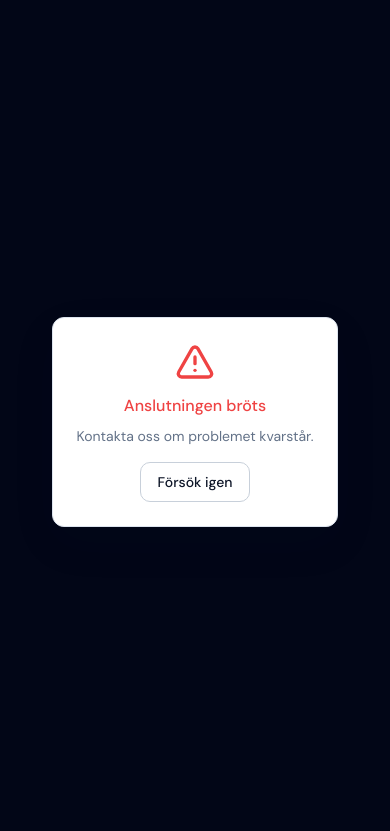
Test: public customer page recovery › ends the portal loader on a network error and supports retry
Expected: the text "Anslutningen bröts" is shown, [124, 395, 266, 416]
Click the button "Försök igen": (195, 482) [140, 462, 250, 502]
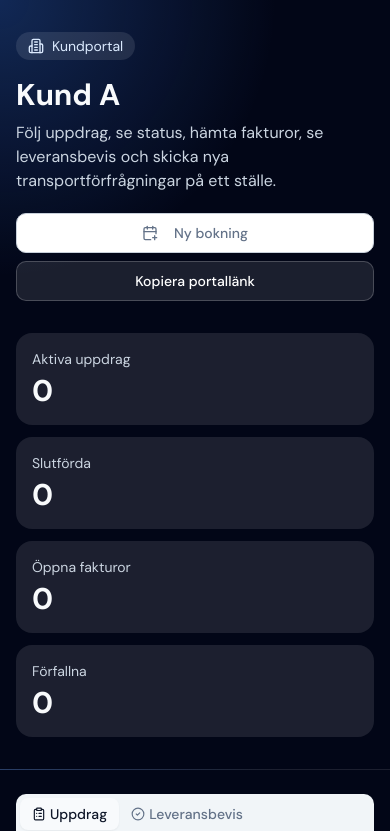
Expected: the heading "Kund A" is shown, [16, 75, 120, 114]
